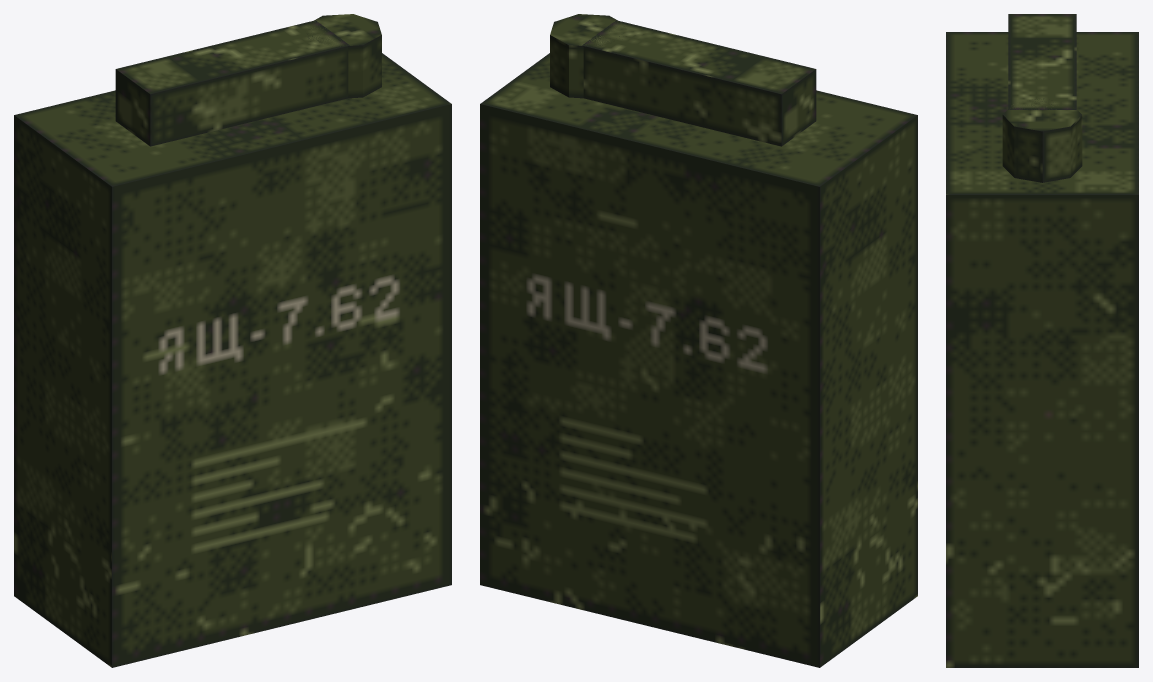
File: SM_JerryCan_01.fbx
3 views of the same model, side by side, from view 1: azimuth 30°, elevation 25°; view 2: azimuth 150°, elevation 25°; view 3: azimuth 270°, elevation 25° (orthographic).
Visible parts, largest first — view 1: SM_JerryCan_01; view 2: SM_JerryCan_01; view 3: SM_JerryCan_01.
Part boxes in pixels (left/top/right/bottom): SM_JerryCan_01: left=14, top=14, right=451, bottom=667; SM_JerryCan_01: left=480, top=14, right=917, bottom=667; SM_JerryCan_01: left=946, top=14, right=1138, bottom=667.
Size of the model in its own units: 0.34 by 0.51 by 0.17.
1 material, 1 textured.
